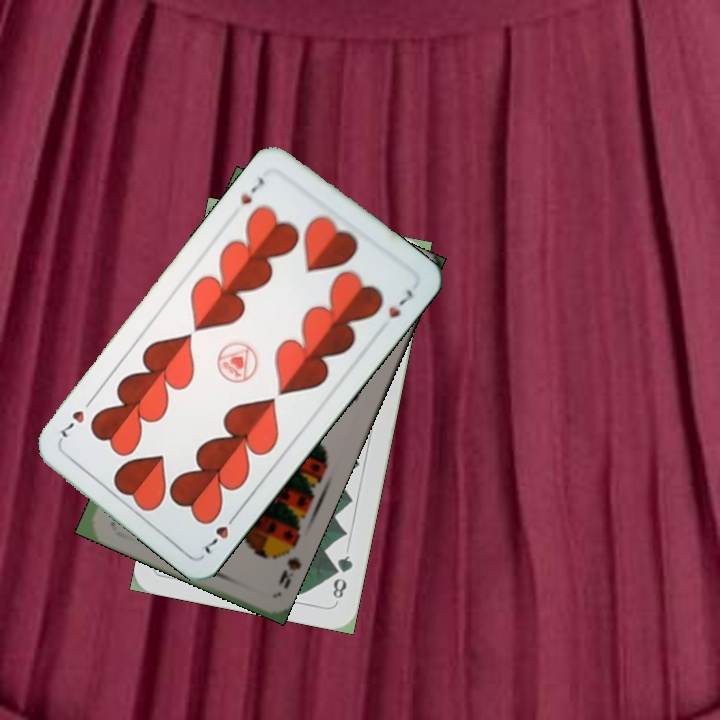G8: (328, 551, 356, 604)
H7: (200, 508, 241, 557), (236, 172, 268, 208)
S9: (274, 536, 303, 592)
